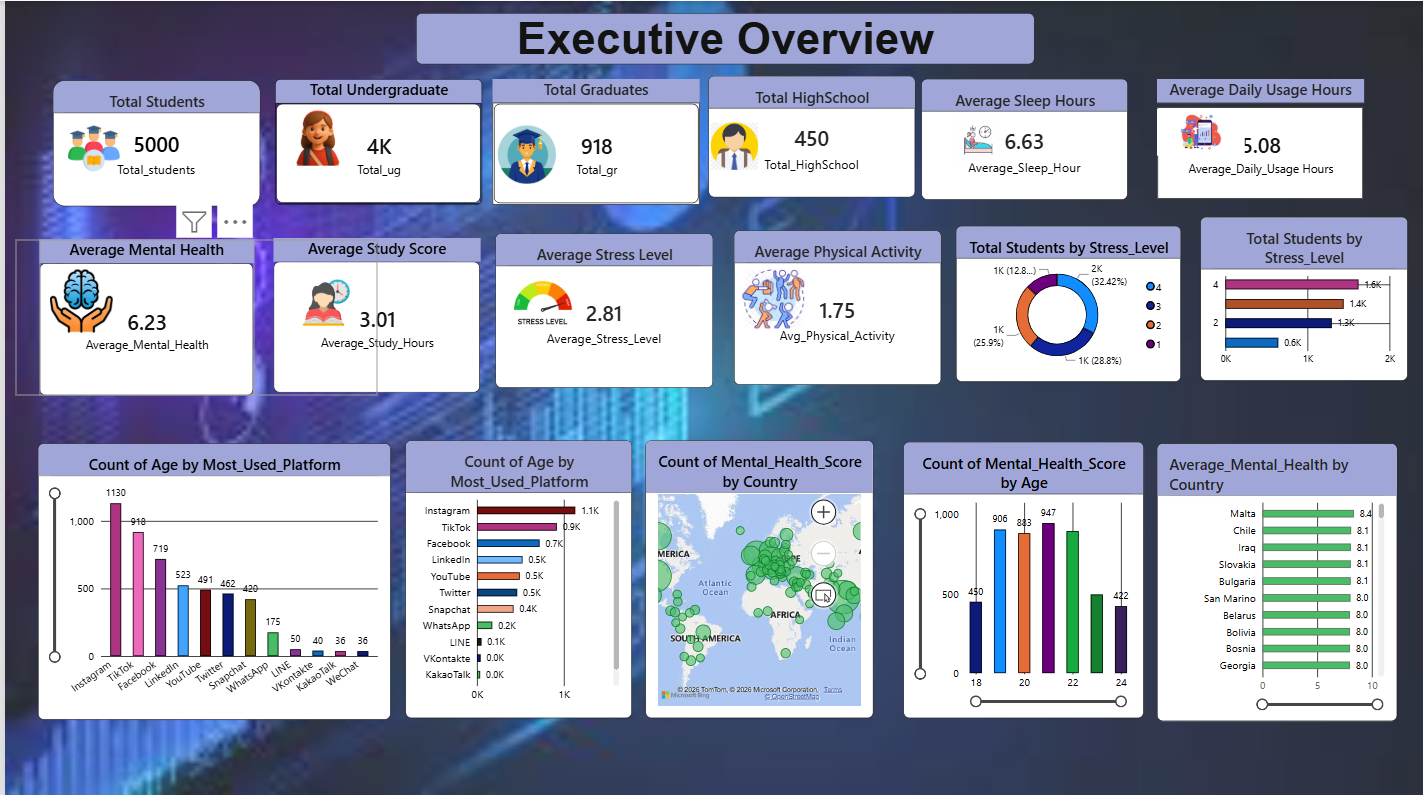

The dashboard page shown, as its layout file describes it:
{"tool":"powerbi","page":{"name":"Executive Overview","canvas":[1920,1080],"ordinal":0},"visuals":[{"type":"cardVisual","title":"Average Daily Usage Hours","fields":{"Data":["Student Social Media And Mental Health Impact.Average_Daily_Usage Hours"]},"box":[1557.2,105.4,279.8,162.2],"z":0},{"type":"cardVisual","title":"Total Undergraduate","fields":{"Data":["Student Social Media And Mental Health Impact.Total_ug"]},"box":[363.8,105.6,280,170],"z":0,"group":"g5"},{"type":"card","title":"Average Sleep Hours","fields":{"Values":["Student Social Media And Mental Health Impact.Average_Sleep_Hour"]},"box":[1238,106.3,278.8,163],"z":0,"group":"g6"},{"type":"card","title":"Total Students","fields":{"Values":["Student Social Media And Mental Health Impact.Total_students"]},"box":[65,107.5,280,170],"z":0,"group":"g2"},{"type":"card","title":"Average Stress Level","fields":{"Values":["Student Social Media And Mental Health Impact.Average_Stress_Level"]},"box":[662.3,314.3,294,208.8],"z":0,"group":"g8"},{"type":"cardVisual","title":"Average Mental Health","fields":{"Data":["Student Social Media And Mental Health Impact.Average_Mental_Health"]},"box":[45.7,322.4,289.9,210.9],"z":0,"group":"g7"},{"type":"group","id":"g1","title":"Group 9","box":[44.6,598.1,476.5,373.1],"z":0,"group":"g9"},{"type":"card","title":"Total HighSchool","fields":{"Values":["Student Social Media And Mental Health Impact.Total_HighSchool"]},"box":[950.2,101.6,279.5,164.1],"z":1000,"group":"g4"},{"type":"cardVisual","title":"Total Graduates","fields":{"Data":["Student Social Media And Mental Health Impact.Total_gr"]},"box":[658,106.3,280,170],"z":1000,"group":"g3"},{"type":"image","box":[1270,156.6,88.3,63.3],"z":1000,"group":"g6"},{"type":"cardVisual","title":"Average Study Score","fields":{"Data":["Student Social Media And Mental Health Impact.Average_Study_Hours"]},"box":[362.9,320.4,279.8,208.8],"z":1000},{"type":"image","box":[14.2,362.3,178.3,85],"z":1000,"group":"g7"},{"type":"image","box":[642.7,367.1,168.3,83.3],"z":1000,"group":"g8"},{"type":"image","box":[1556.3,120.7,118.3,115],"z":2000,"group":"g6"},{"type":"image","box":[951.6,361.8,175,83.3],"z":2000,"group":"g8"},{"type":"image","box":[364.2,370.6,138.3,73.3],"z":2000,"group":"g7"},{"type":"image","box":[727.1,427.1,18.6,38.6],"z":2000},{"type":"card","title":"Average Physical Activity","fields":{"Values":["Student Social Media And Mental Health Impact.Avg_Physical_Activity"]},"box":[985.4,310.2,279.8,208.8],"z":3000},{"type":"image","box":[745.7,394.3,28.6,40],"z":4000},{"type":"donutChart","fields":{"Category":["Student Social Media And Mental Health Impact.Stress_Level"],"Y":["Student Social Media And Mental Health Impact.Total Students"]},"box":[1285.5,304.1,304.1,210.9],"z":5000},{"type":"clusteredBarChart","fields":{"Category":["Student Social Media And Mental Health Impact.Most_Used_Platform"],"Y":["CountNonNull(Student Social Media And Mental Health Impact.Age)"]},"box":[541.4,594.1,306.2,375.1],"z":6000},{"type":"map","fields":{"Category":["Student Social Media And Mental Health Impact.Country"],"Size":["CountNonNull(Student Social Media And Mental Health Impact.Mental_Health_Score)"]},"box":[865.8,594.1,308.2,375.1],"z":7000},{"type":"clusteredColumnChart","fields":{"Category":["Student Social Media And Mental Health Impact.Age","Student Social Media And Mental Health Impact.Country Hierarchy.Country","Student Social Media And Mental Health Impact.Country Hierarchy.Gender","Student Social Media And Mental Health Impact.Country Hierarchy.Academic_Level"],"Y":["CountNonNull(Student Social Media And Mental Health Impact.Mental_Health_Score)"]},"box":[1214.5,596.1,324.4,373.1],"z":8000},{"type":"barChart","fields":{"Category":["Student Social Media And Mental Health Impact.Stress_Level"],"Y":["Student Social Media And Mental Health Impact.Total Students"]},"box":[1616,292,279.8,221],"z":9000},{"type":"clusteredBarChart","fields":{"Category":["Student Social Media And Mental Health Impact.Country"],"Y":["Student Social Media And Mental Health Impact.Average_Mental_Health"]},"box":[1557.2,598.1,324.4,375.1],"z":10000},{"type":"textbox","title":"Executive Overview","box":[554.8,16.7,835.7,69],"z":11000},{"type":"group","id":"g2","title":"Group 1","box":[65,107.5,280,170],"z":12000},{"type":"group","id":"g3","title":"Group 2","box":[644.1,106.3,294.7,170.1],"z":13000},{"type":"group","id":"g4","title":"Group 3","box":[930.8,101.6,298.9,164.1],"z":14000},{"type":"group","id":"g5","title":"Group 4","box":[362.5,105.6,281.2,170],"z":15000},{"type":"group","id":"g6","title":"Group 5","box":[1238,106.3,436.6,163],"z":16000},{"type":"group","id":"g7","title":"Group 6","box":[14.2,322.4,488.6,210.9],"z":17000},{"type":"image","box":[362.5,144.7,121.5,79],"z":18000,"group":"g5"},{"type":"image","box":[930.8,164,111,63.8],"z":18000,"group":"g4"},{"type":"image","box":[85,165,70,70],"z":18000,"group":"g2"},{"type":"image","box":[644.1,169.4,121.5,79],"z":18000,"group":"g3"},{"type":"group","id":"g8","title":"Group 7","box":[642.7,314.3,484.6,208.8],"z":18000},{"type":"group","id":"g9","title":"Group 10","box":[44.6,598.1,476.5,373.1],"z":26000},{"type":"clusteredColumnChart","fields":{"Category":["Student Social Media And Mental Health Impact.Most_Used_Platform"],"Y":["CountNonNull(Student Social Media And Mental Health Impact.Age)"]},"box":[44.6,598.1,476.5,373.1],"z":28500,"group":"g10"},{"type":"group","id":"g10","title":"Group 8","box":[44.6,598.1,476.5,373.1],"z":29001,"group":"g1"}]}

Visuals, with their boxes in screenshot pixels (x1, y1, x2, y2), scaled from the page's 1920x1080 canvas onto the 1423x795 screenshot:
"Average Daily Usage Hours" cardVisual: (1154,78,1361,197)
"Total Undergraduate" cardVisual: (270,78,477,203)
"Average Sleep Hours" card: (918,78,1124,198)
"Total Students" card: (48,79,256,204)
"Average Stress Level" card: (491,231,709,385)
"Average Mental Health" cardVisual: (34,237,249,393)
"Group 9" group: (33,440,386,715)
"Total HighSchool" card: (704,75,911,196)
"Total Graduates" cardVisual: (488,78,695,203)
image: (941,115,1007,162)
"Average Study Score" cardVisual: (269,236,476,390)
image: (11,267,143,329)
image: (476,270,601,332)
image: (1153,89,1241,174)
image: (705,266,835,328)
image: (270,273,372,327)
image: (539,314,553,343)
"Average Physical Activity" card: (730,228,938,382)
image: (553,290,574,320)
donutChart - Student Social Media And Mental Health Impact.Stress_Level x Student Social Media And Mental Health Impact.Total Students: (953,224,1178,379)
clusteredBarChart - Student Social Media And Mental Health Impact.Most_Used_Platform x CountNonNull(Student Social Media And Mental Health Impact.Age): (401,437,628,713)
map - Student Social Media And Mental Health Impact.Country x CountNonNull(Student Social Media And Mental Health Impact.Mental_Health_Score): (642,437,870,713)
clusteredColumnChart - Student Social Media And Mental Health Impact.Age x Student Social Media And Mental Health Impact.Country Hierarchy.Country: (900,439,1141,713)
barChart - Student Social Media And Mental Health Impact.Stress_Level x Student Social Media And Mental Health Impact.Total Students: (1198,215,1405,378)
clusteredBarChart - Student Social Media And Mental Health Impact.Country x Student Social Media And Mental Health Impact.Average_Mental_Health: (1154,440,1395,716)
"Executive Overview" textbox: (411,12,1031,63)
"Group 1" group: (48,79,256,204)
"Group 2" group: (477,78,696,203)
"Group 3" group: (690,75,911,196)
"Group 4" group: (269,78,477,203)
"Group 5" group: (918,78,1241,198)
"Group 6" group: (11,237,373,393)
image: (269,107,359,165)
image: (690,121,772,168)
image: (63,121,115,173)
image: (477,125,567,183)
"Group 7" group: (476,231,835,385)
"Group 10" group: (33,440,386,715)
clusteredColumnChart - Student Social Media And Mental Health Impact.Most_Used_Platform x CountNonNull(Student Social Media And Mental Health Impact.Age): (33,440,386,715)
"Group 8" group: (33,440,386,715)
